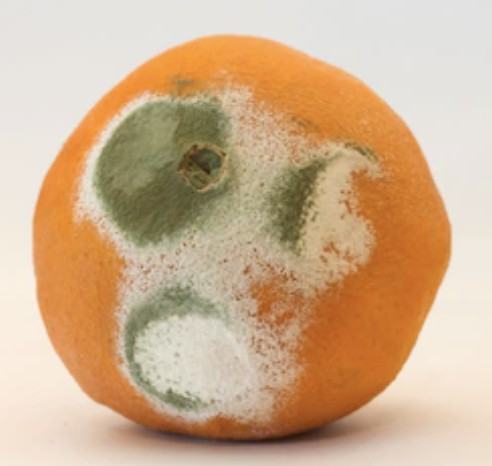rotten_orange: (33, 34, 451, 439)
